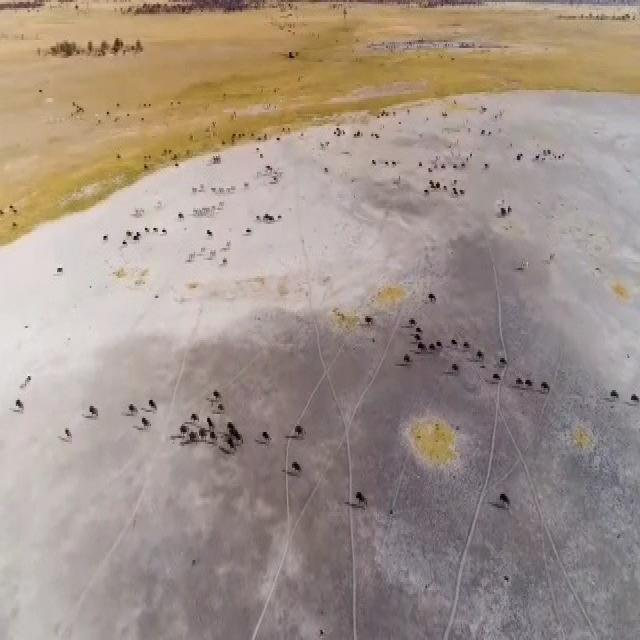Wildebeast: (493, 482, 516, 527), (257, 422, 280, 459), (352, 477, 371, 517), (223, 429, 240, 471), (188, 404, 206, 442), (13, 396, 35, 424), (608, 383, 624, 421), (87, 404, 106, 434), (208, 378, 227, 408), (364, 307, 380, 340), (288, 458, 308, 484), (627, 386, 640, 425), (426, 292, 446, 317), (124, 396, 140, 427), (398, 350, 414, 381), (184, 429, 202, 456), (206, 413, 218, 451), (537, 374, 551, 404), (448, 327, 459, 365), (147, 394, 161, 420), (139, 414, 153, 436), (217, 406, 234, 424), (464, 333, 476, 357), (296, 425, 305, 456), (418, 335, 429, 360), (527, 370, 538, 394), (430, 338, 442, 360), (177, 423, 191, 441), (494, 362, 502, 393), (475, 346, 487, 365), (516, 373, 525, 396), (61, 424, 72, 442), (497, 354, 508, 372), (407, 319, 420, 327)
